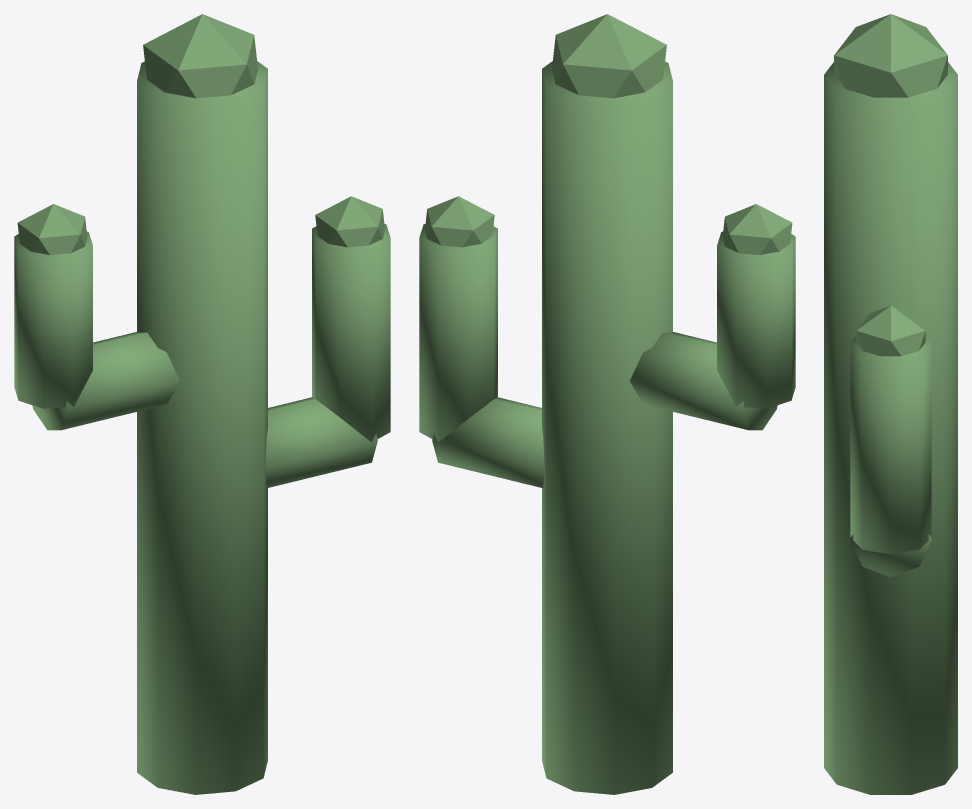
The model's file is cactus.glb.
3 renders of one model, left to right at view 1: azimuth 30°, elevation 25°; view 2: azimuth 150°, elevation 25°; view 3: azimuth 270°, elevation 25°, orthographic.
Visible parts, largest first — view 1: Cactus; view 2: Cactus; view 3: Cactus.
Boxes of the visible parts, x1,y1,x2,y2 form: Cactus: [14, 14, 390, 794]; Cactus: [419, 14, 795, 794]; Cactus: [824, 14, 957, 794].
Bounding box in the file's own units: 1.78 × 3.48 × 0.56.
